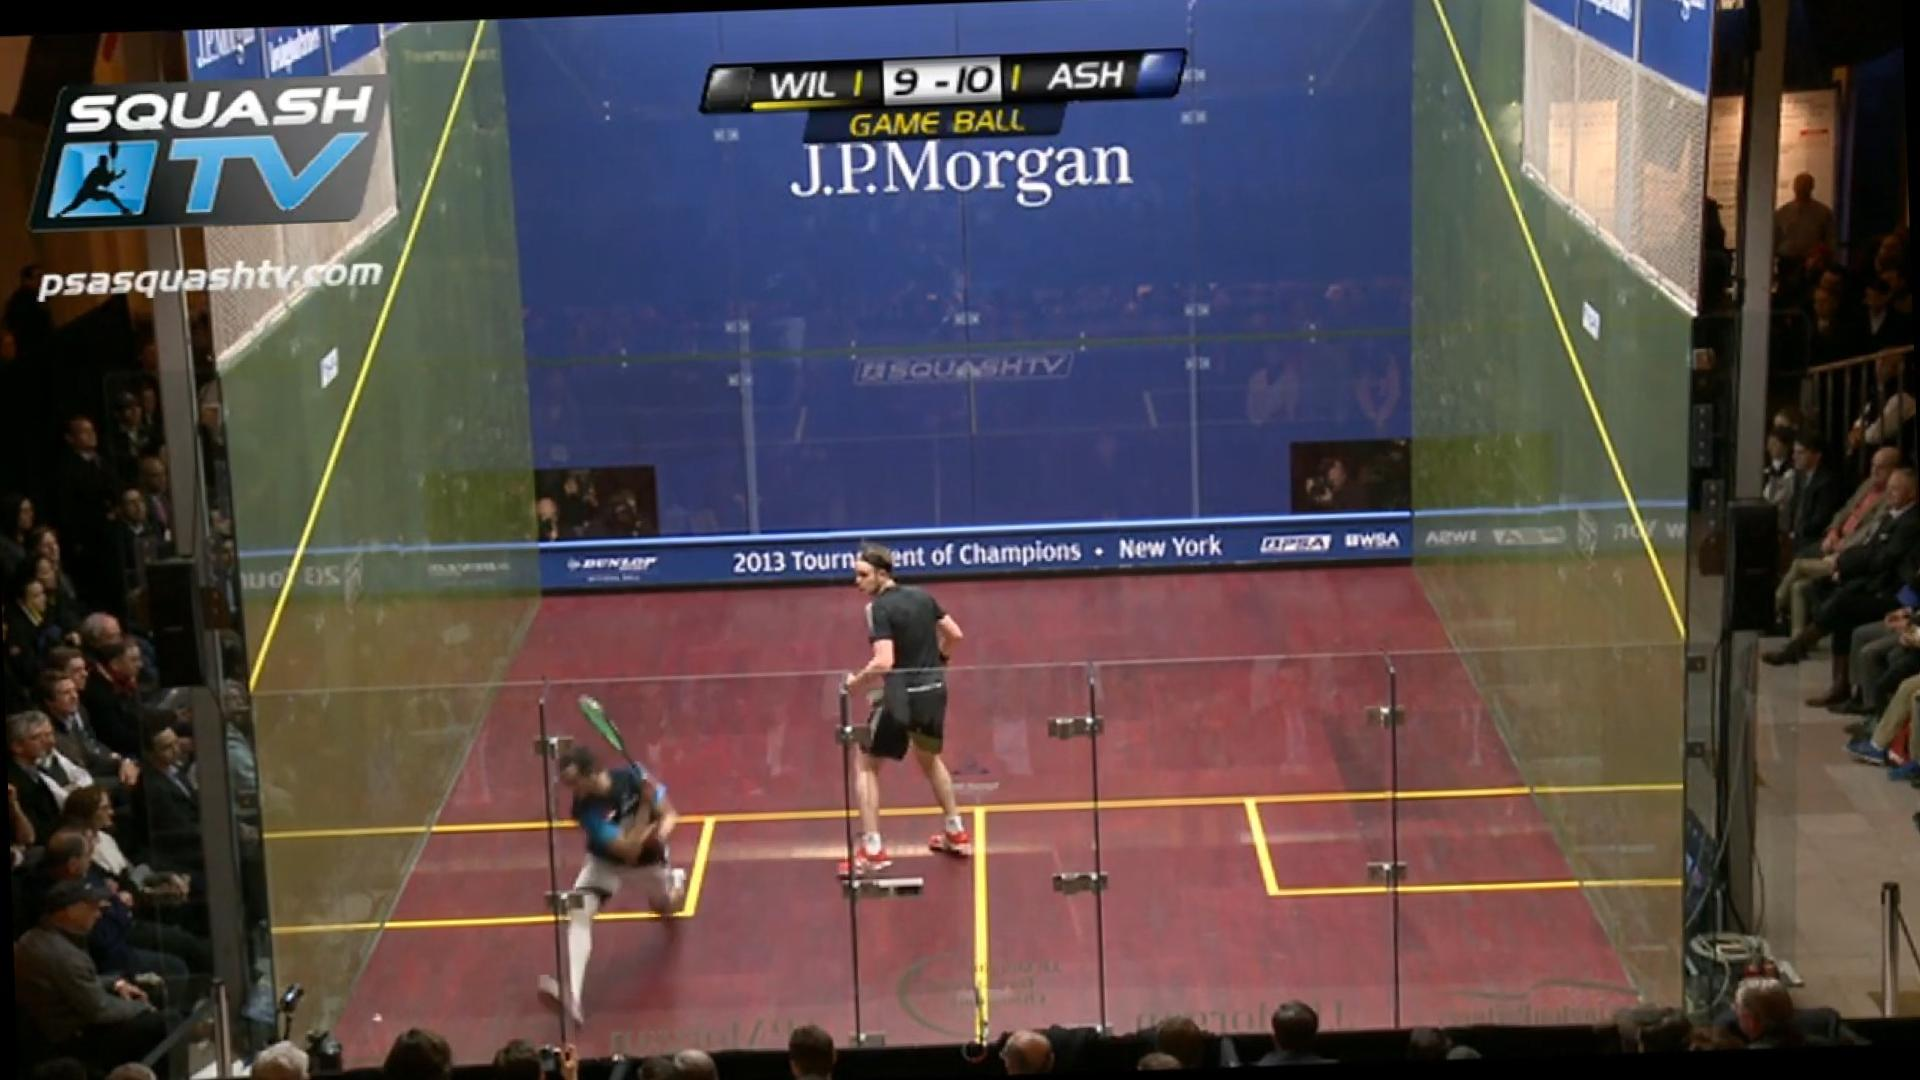Squash-Ball: (357, 997, 400, 1038)
